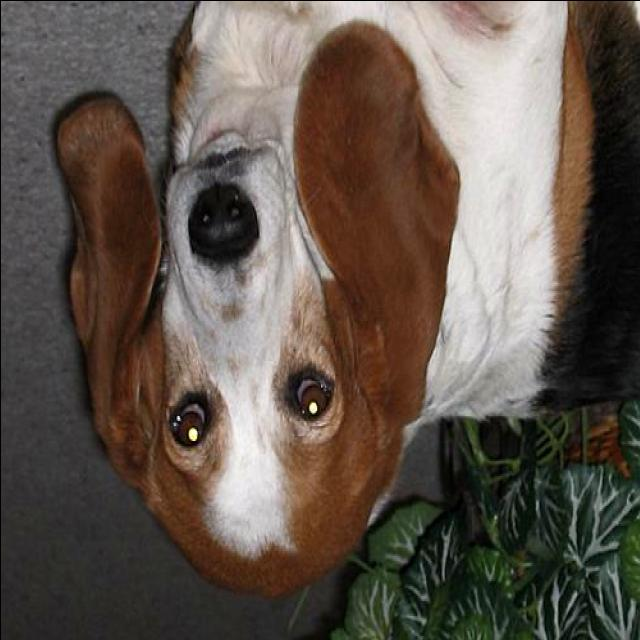basset: (52, 1, 640, 594)
